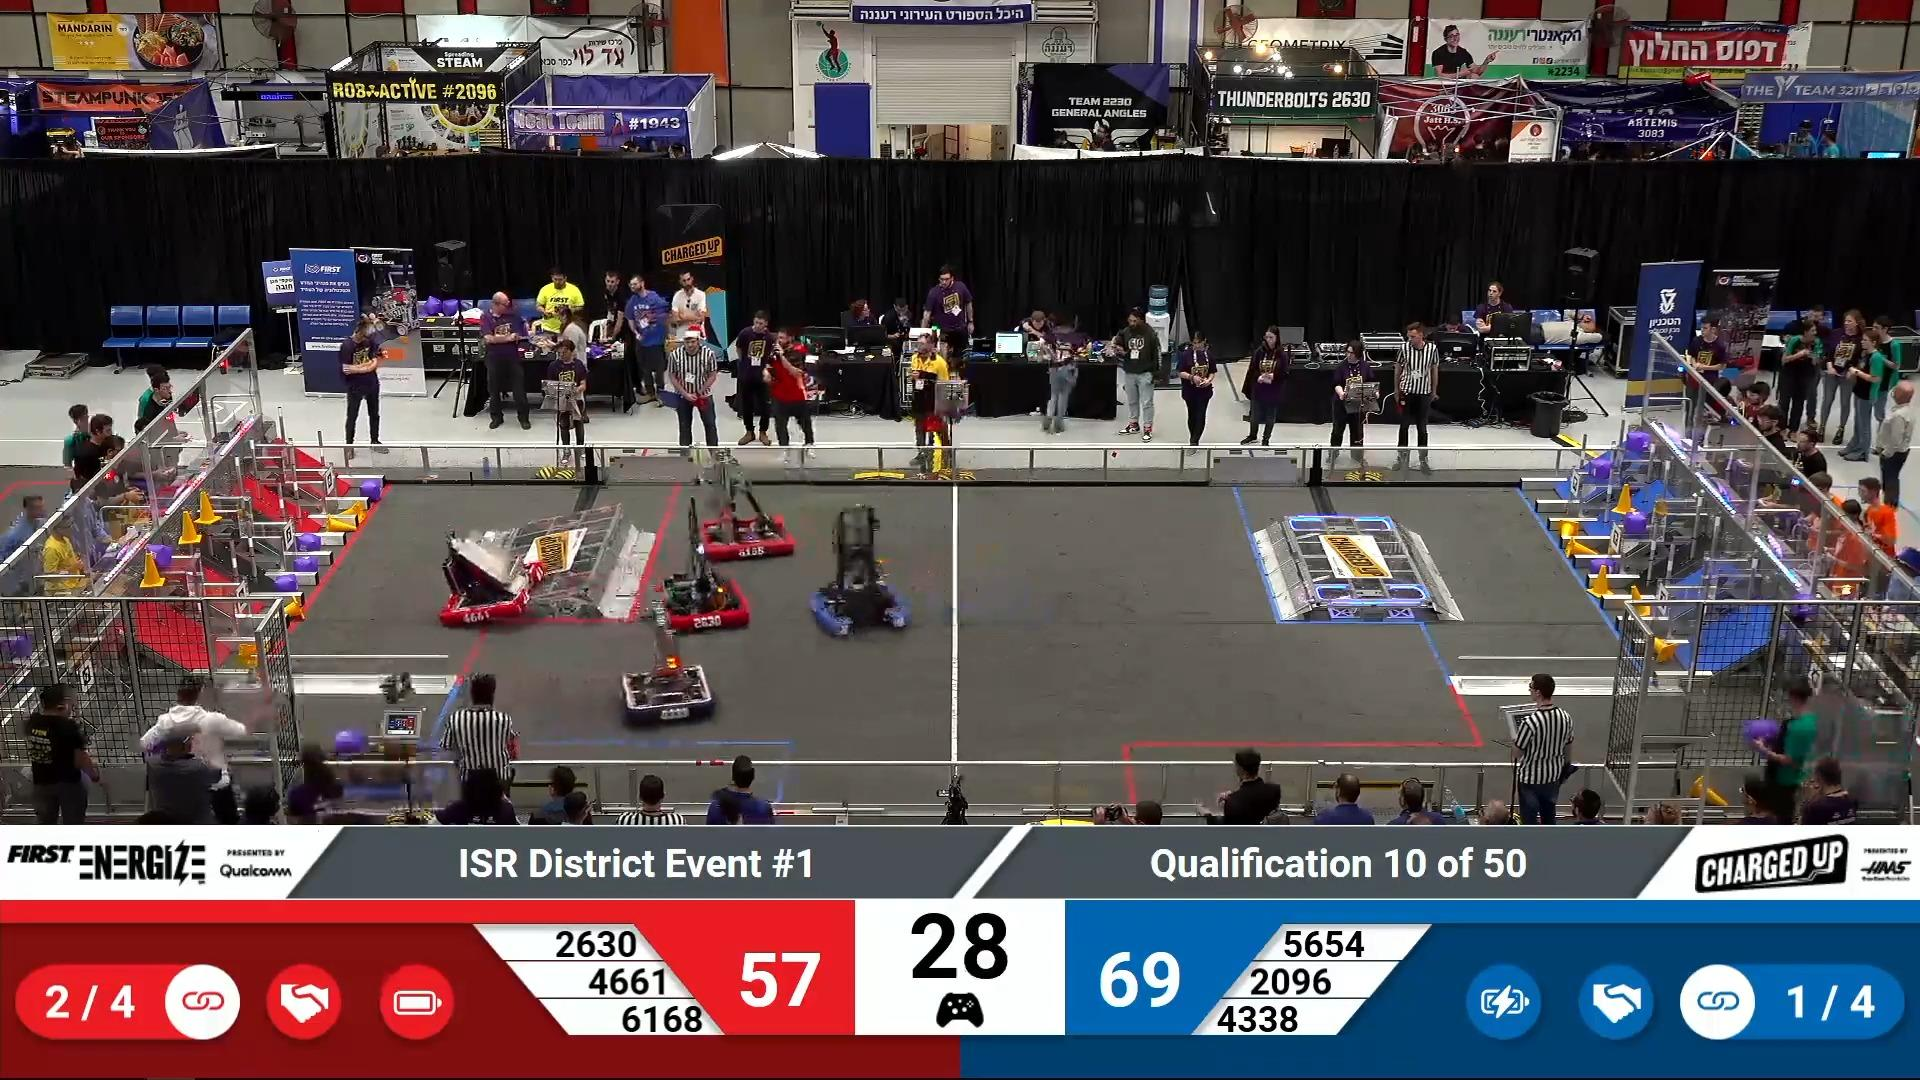robot: (336, 691, 448, 804), (812, 530, 911, 644), (686, 469, 802, 564), (427, 537, 546, 628), (616, 644, 715, 733), (658, 554, 753, 634)
